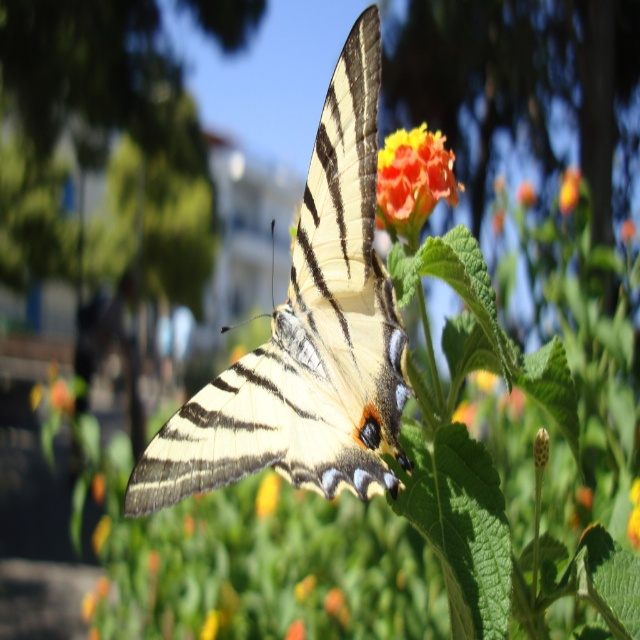Butterfly: (126, 44, 429, 526)
